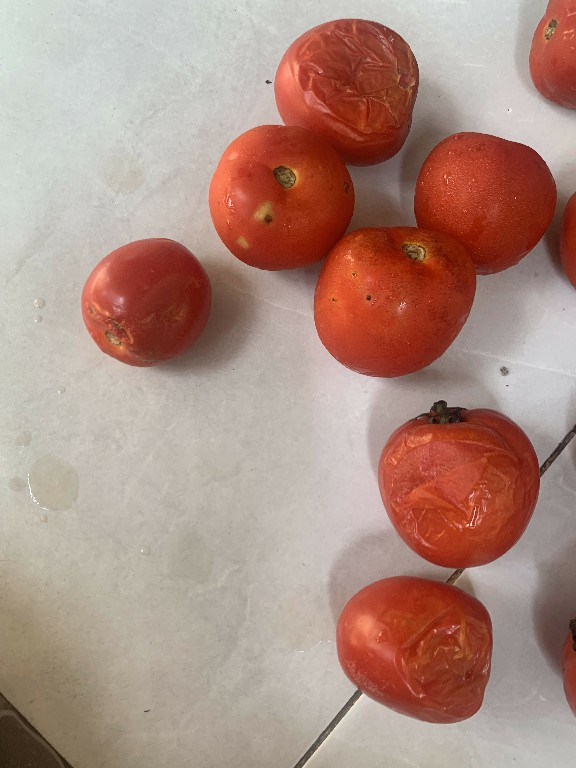NG: (357, 396, 548, 561), (319, 563, 485, 719), (320, 217, 476, 382), (66, 229, 216, 382), (276, 9, 420, 164), (208, 115, 355, 262)
OK: (413, 129, 562, 280)
